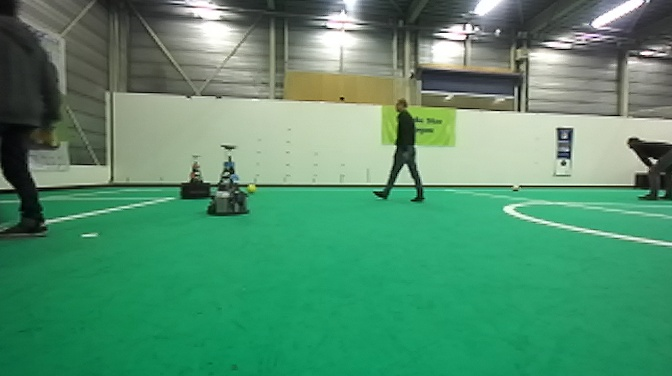ball: (244, 181, 258, 194), (509, 181, 521, 194)
human: (1, 1, 66, 237), (371, 98, 424, 204), (624, 134, 672, 202)
robot: (203, 143, 250, 217), (177, 153, 215, 201)
